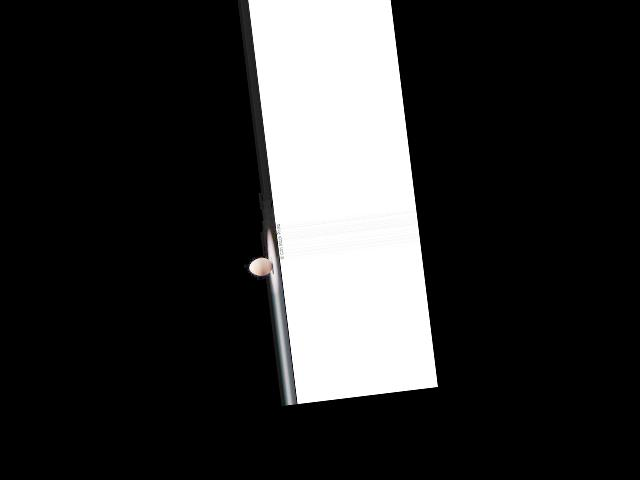egg: (248, 256, 273, 277)
